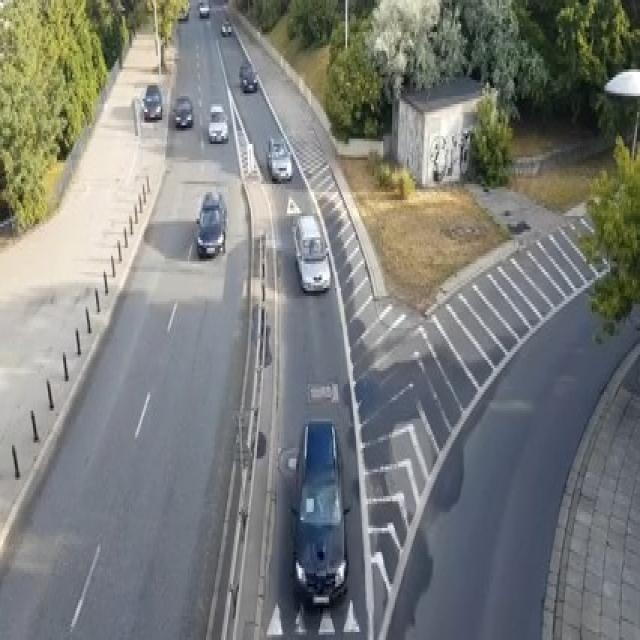bus: (287, 416, 348, 605)
car: (292, 214, 331, 294), (195, 189, 227, 256), (266, 134, 291, 182), (141, 83, 162, 120), (208, 104, 228, 141), (171, 96, 194, 128), (239, 61, 257, 91), (178, 0, 190, 19), (221, 16, 231, 35), (198, 0, 209, 16)
